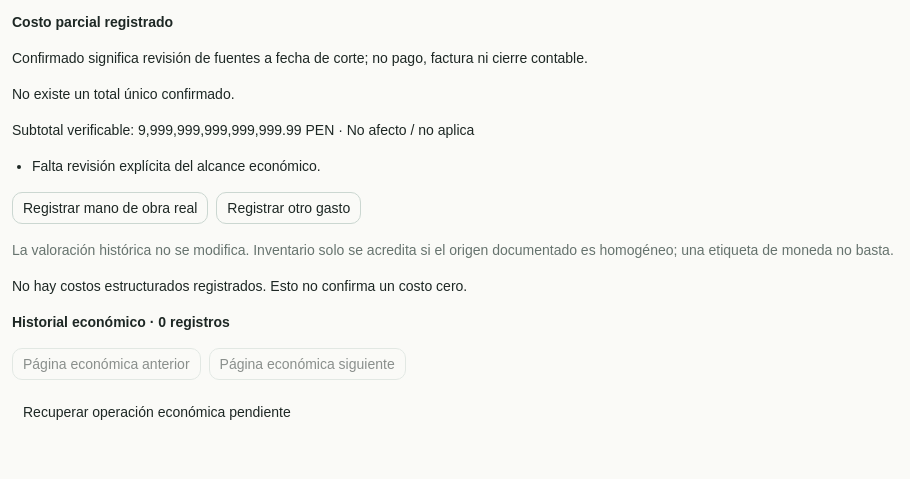
Test case: R14 sección económica › una intención incierta impide iniciar otra
Click the button "Registrar mano de obra real".
click(110, 208)  # box [12,192,208,224]
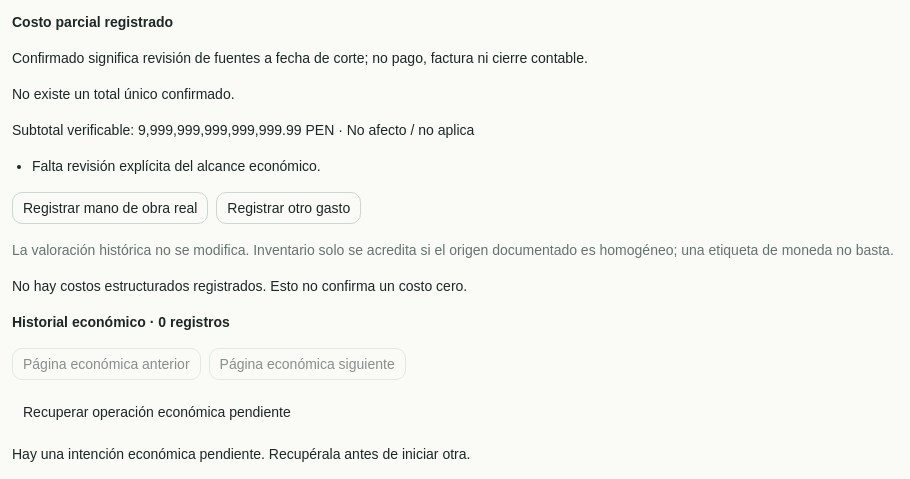
Expected: the text "Hay una intención económica pendiente. Recupérala antes de iniciar otra." is shown, [12,446,470,462]
